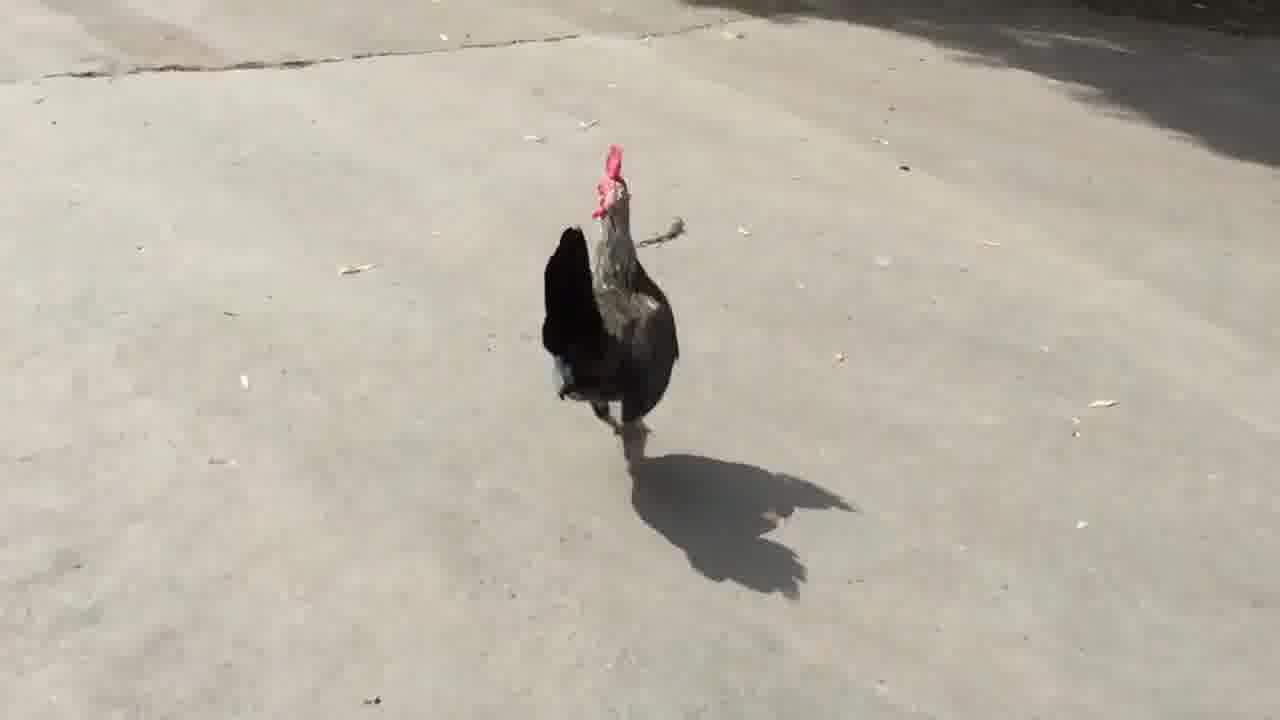Normal: (520, 148, 694, 488)
